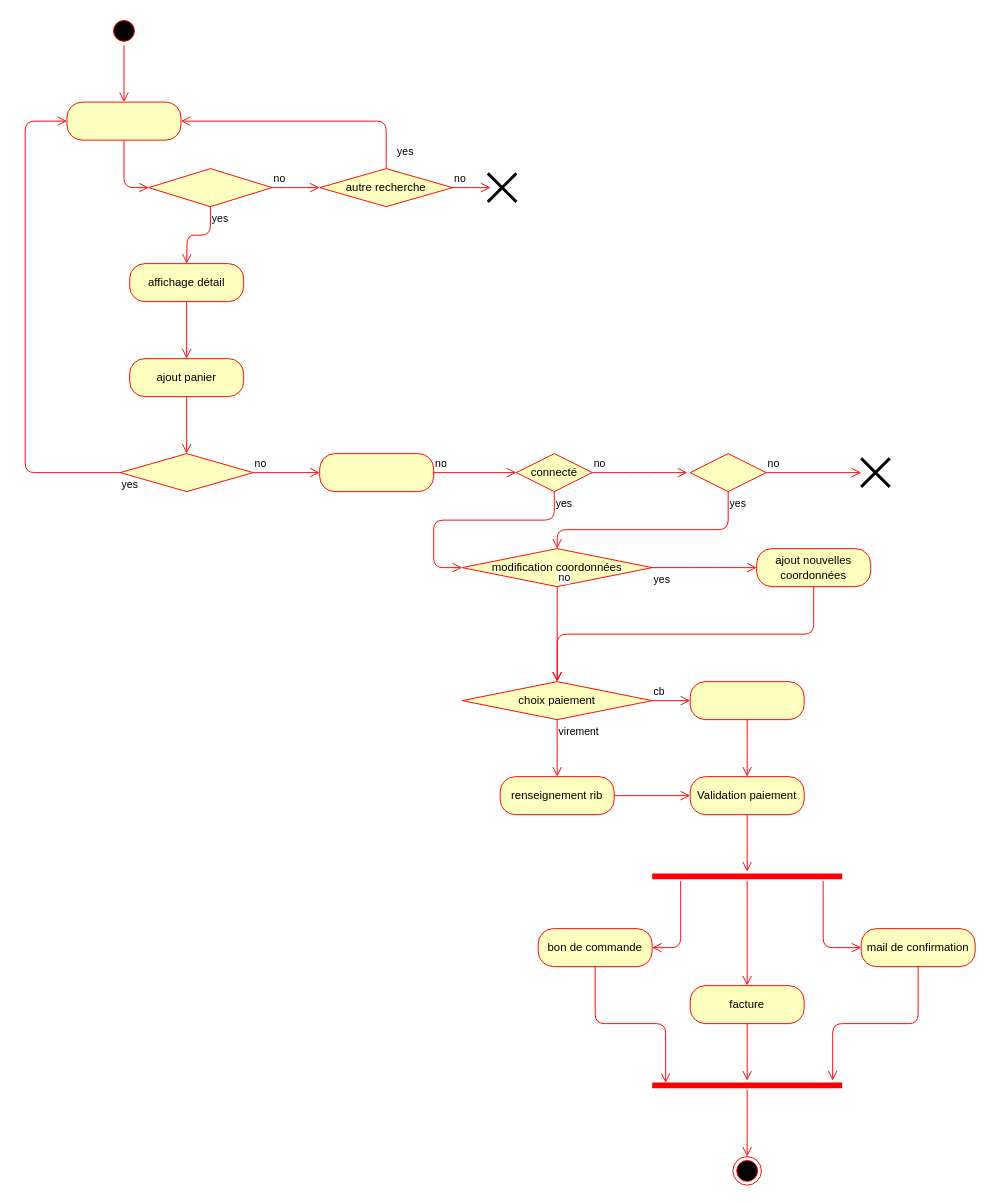
The diagram is 992 pixels wide and 1202 high, and some of its shapes have lost their labels. Each missing label, with the centre of its shape:
inscription: (727,472)
poursuite achat: (186,472)
produit présent: (210,187)
Recherche de produit: (123,120)
renseignement cb: (746,700)
validation panier: (376,472)
